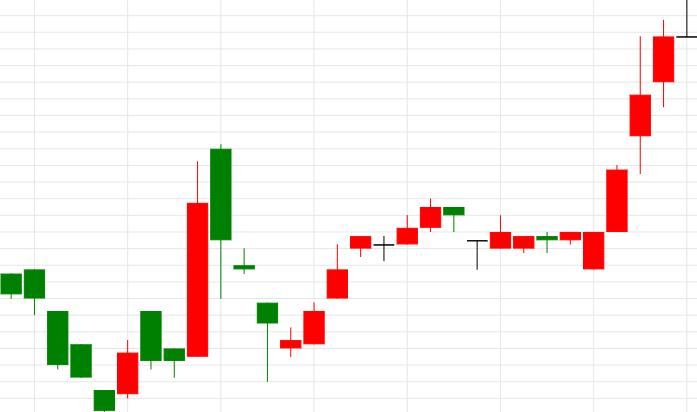three_white_soldiers_rise: (467, 36, 651, 270)
